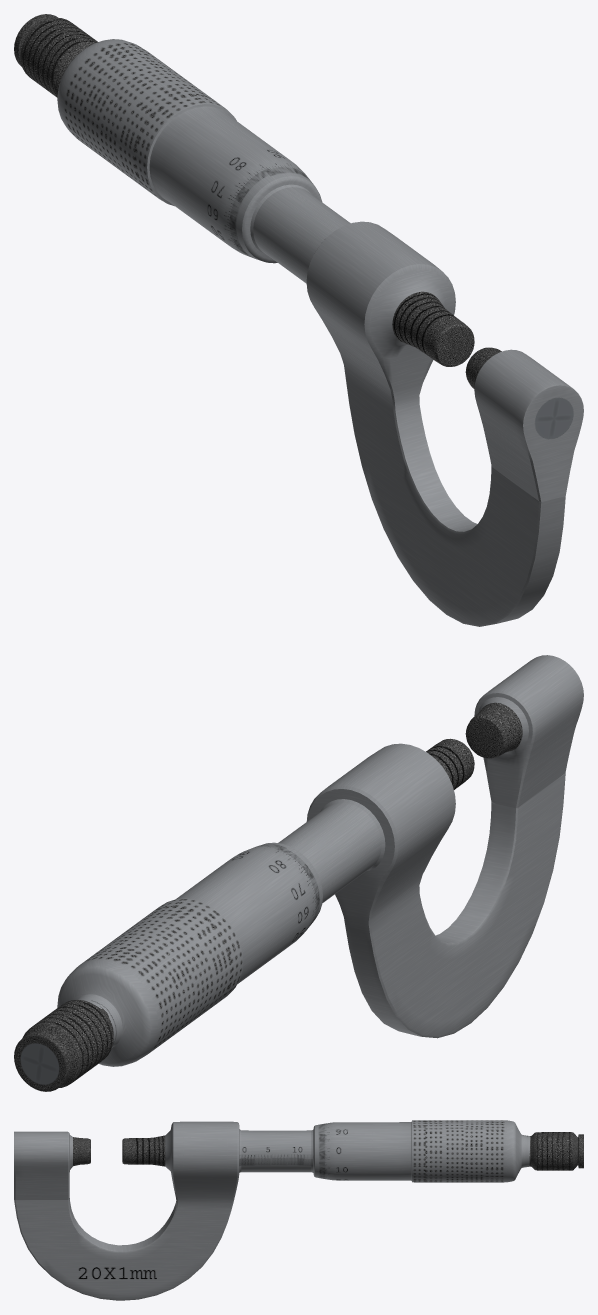
The model's file is screw gauge.fbx.
The picture shows the model from 3 angles, top to bottom: view 1: azimuth 30°, elevation 25°; view 2: azimuth 150°, elevation 25°; view 3: azimuth 270°, elevation 25°; orthographic projection. The views are drawn at different scales.
Parts seen in each view (by area): view 1: Cylinder; view 2: Cylinder; view 3: Cylinder.
Part boxes in pixels (x1,y1,x2,y2): Cylinder: [14, 14, 583, 626]; Cylinder: [14, 655, 583, 1091]; Cylinder: [14, 1120, 583, 1300].
Bounding box in the file's own units: 55.01 × 170 × 502.
